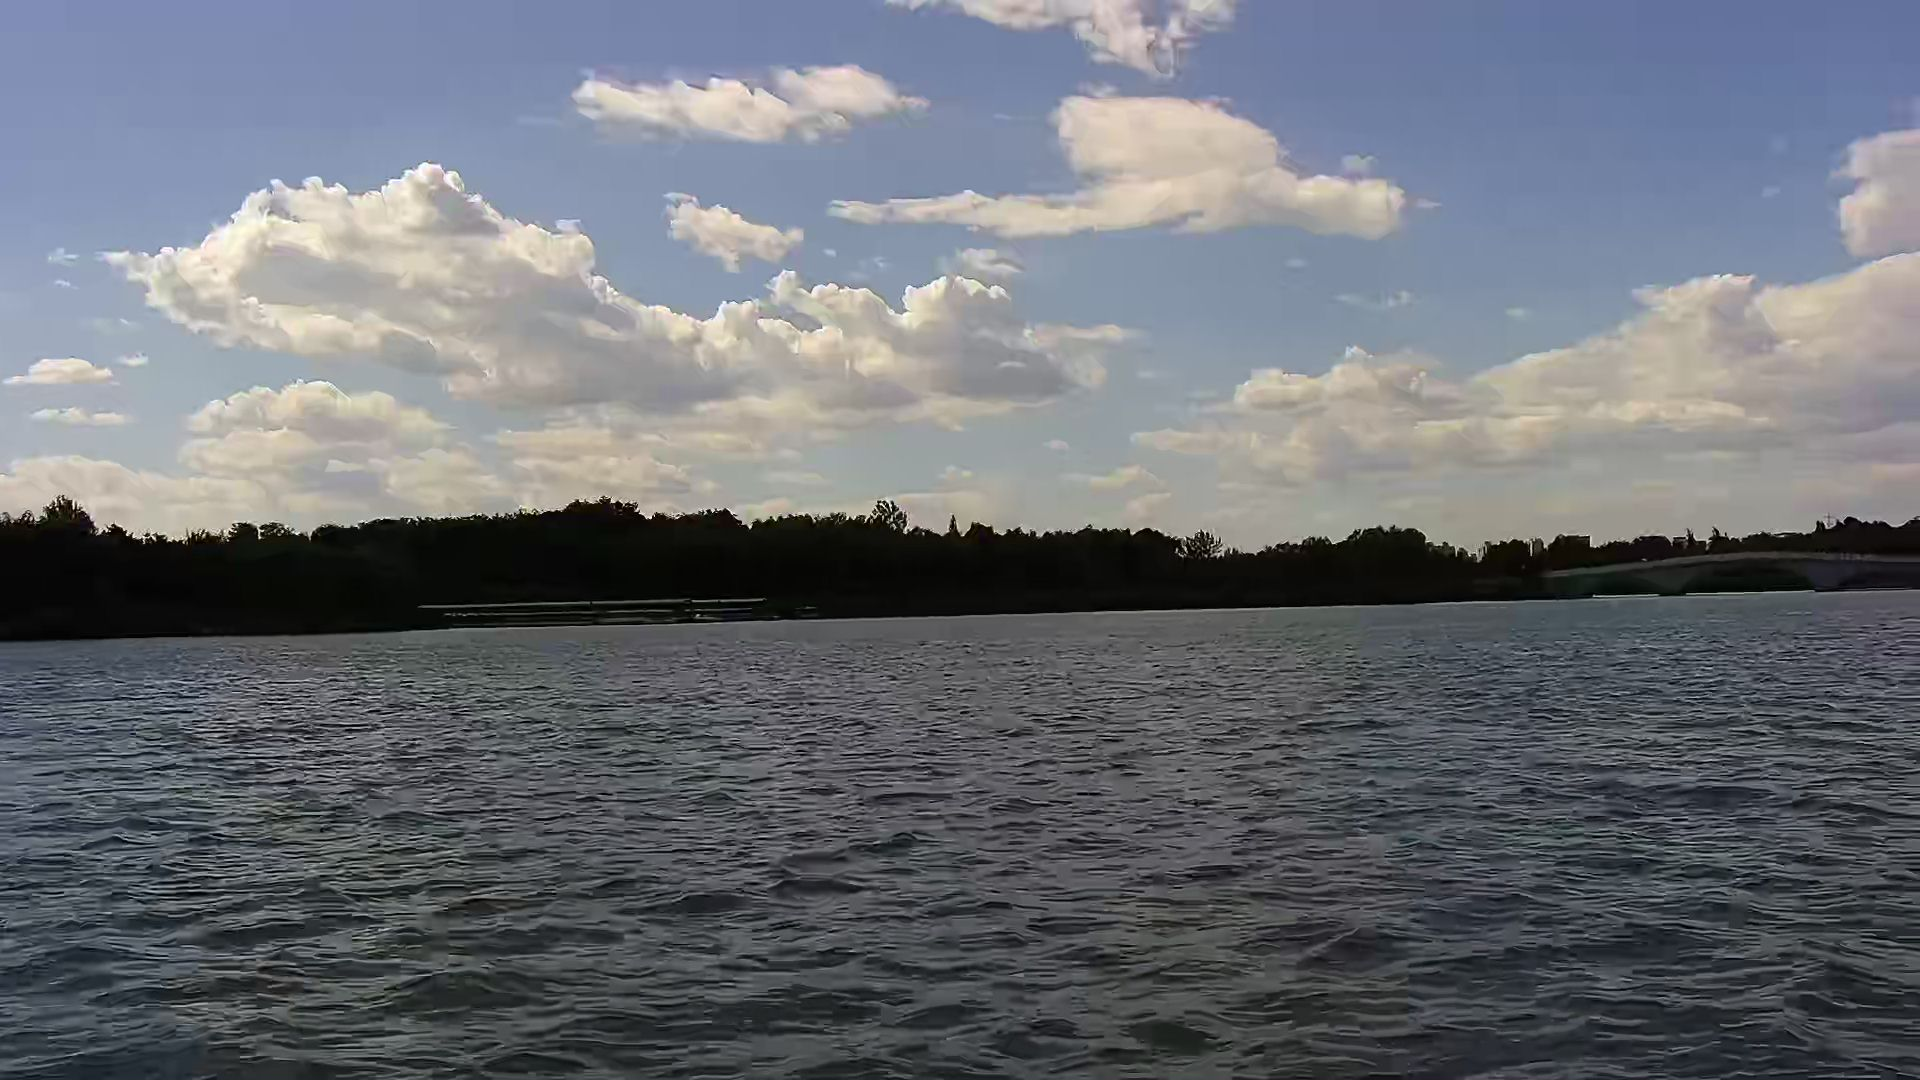bridge: (1540, 549, 1913, 593)
harbor: (425, 595, 771, 624)
